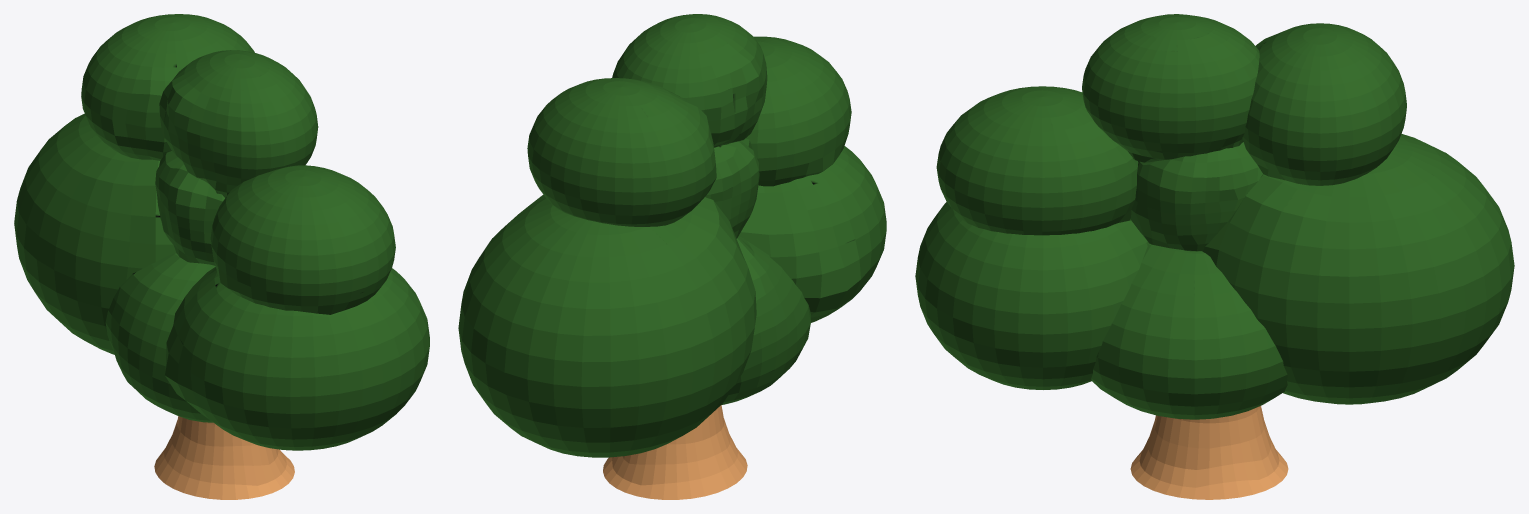
File: Big TreeT D.fbx
The picture shows the model from 3 angles, left to right: view 1: azimuth 30°, elevation 25°; view 2: azimuth 150°, elevation 25°; view 3: azimuth 270°, elevation 25°; orthographic projection. The views are drawn at different scales.
Parts seen in each view (by area): view 1: Tree; view 2: Tree; view 3: Tree.
Boxes of the visible parts, left/top/right/bottom form: Tree: left=14, top=14, right=429, bottom=499; Tree: left=458, top=14, right=886, bottom=499; Tree: left=915, top=14, right=1514, bottom=499.
Bounding box in the file's own units: 693 × 1076 × 1309.
